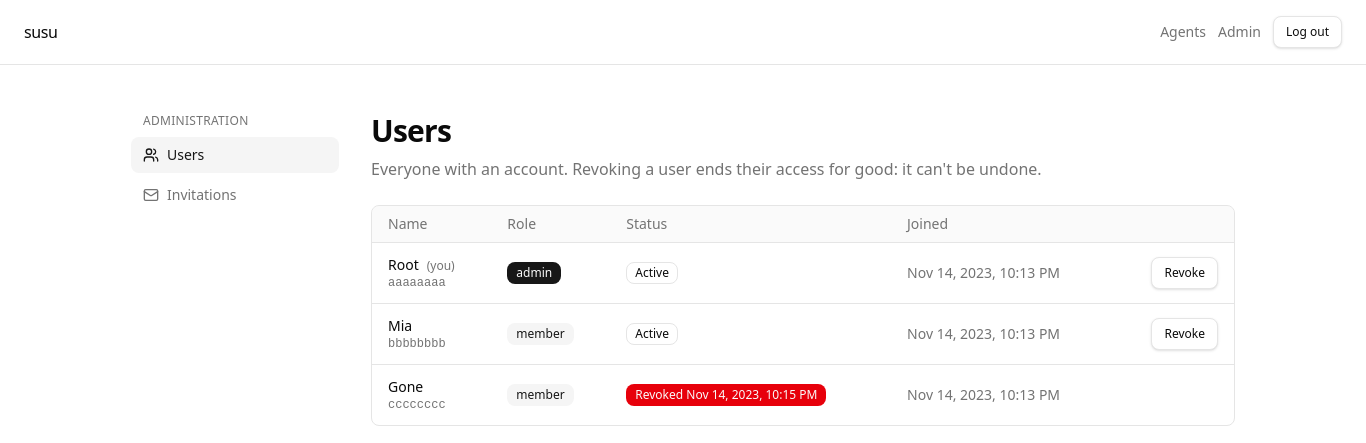
Scenario: left bar › /admin redirects to Users and the bar switches sections
The image size is (1366, 443).
Expected: the heading "Users" is shown, [371,110,451,151]
Step 1. Click the link "Invitations" → (190, 194), box [143,185,236,204]
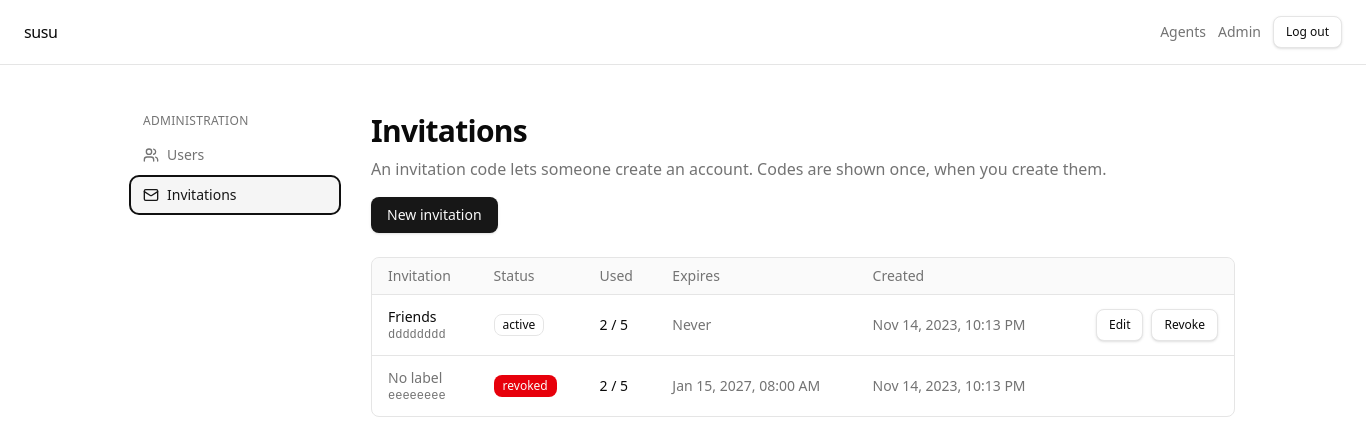
Now the heading "Invitations" is shown, box [371,110,527,151]
Step 2. Click the link "Users" → (174, 154), box [143,145,204,164]
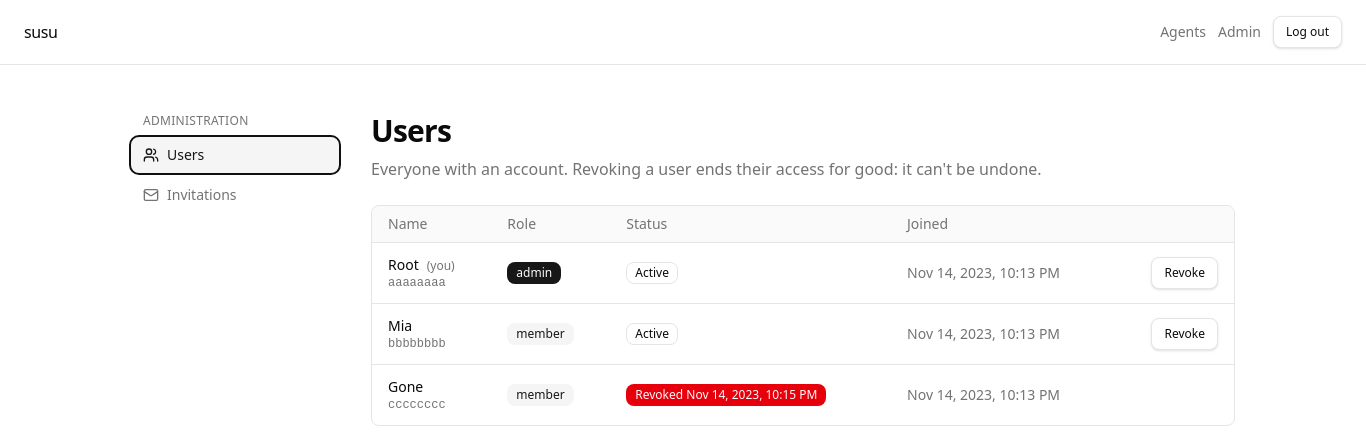
Now the heading "Users" is shown, box [371,110,451,151]
